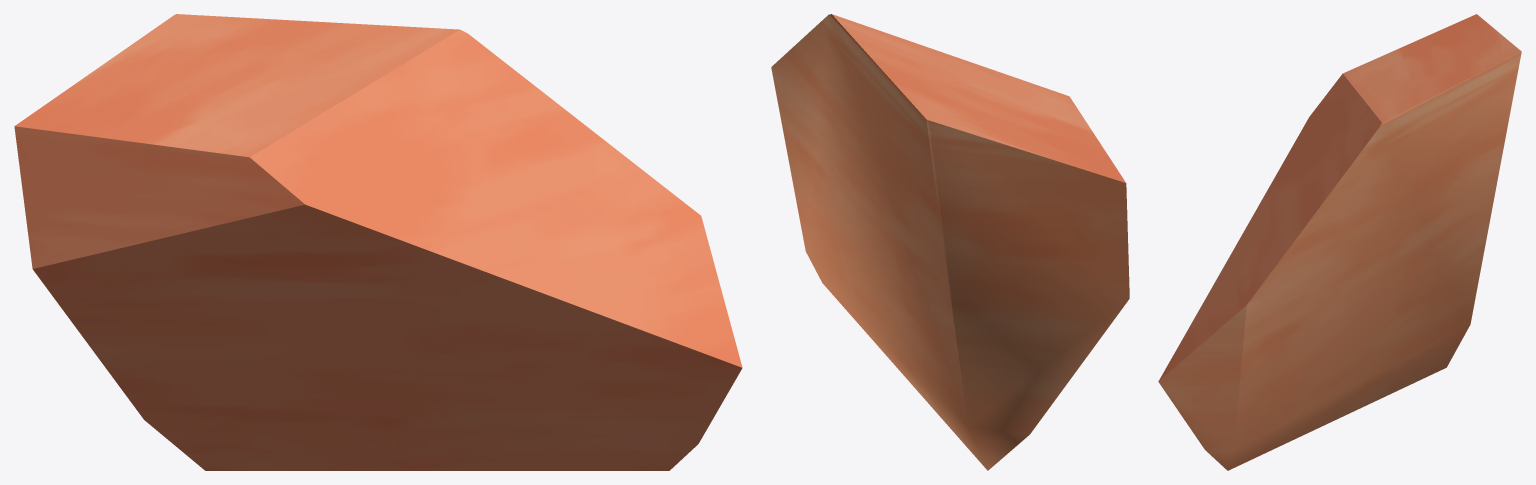
File: pot_tall_s02.fbx
3 views of the same model, side by side, from view 1: azimuth 30°, elevation 25°; view 2: azimuth 150°, elevation 25°; view 3: azimuth 270°, elevation 25° (orthographic). The views are drawn at different scales.
Parts seen in each view (by area): view 1: pot_tall_s02; view 2: pot_tall_s02; view 3: pot_tall_s02.
Boxes of the visible parts, x1,y1,x2,y2 form: pot_tall_s02: (14, 14, 742, 470); pot_tall_s02: (771, 14, 1129, 470); pot_tall_s02: (1158, 14, 1521, 470).
Bounding box in the file's own units: 1.1 × 0.8214 × 0.8311.
